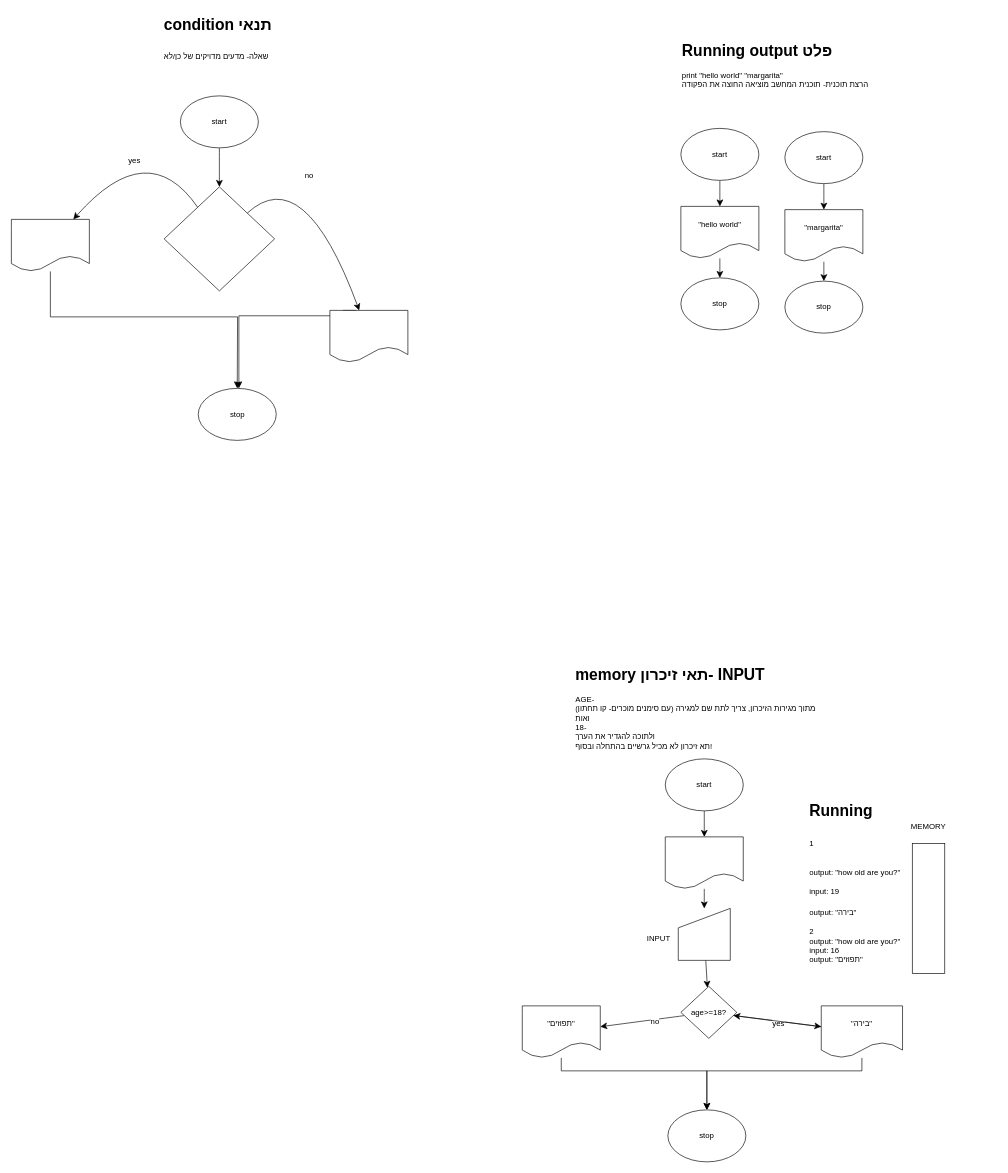
This 1008x1173 diagram has some shape labels left out. The centre of each missing label's shape, as x and y in pixels:
"Good evening": point (50, 245)
"Good morning": point (368, 336)
"how old are you?": point (704, 862)
AGE: point (704, 934)
AGE 19 16: point (928, 908)
time-now > 16:00 ?: point (219, 238)
